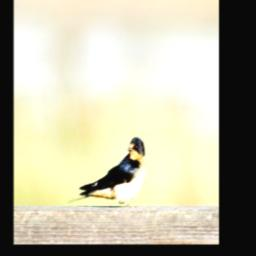Swallow: (67, 136, 146, 210)
